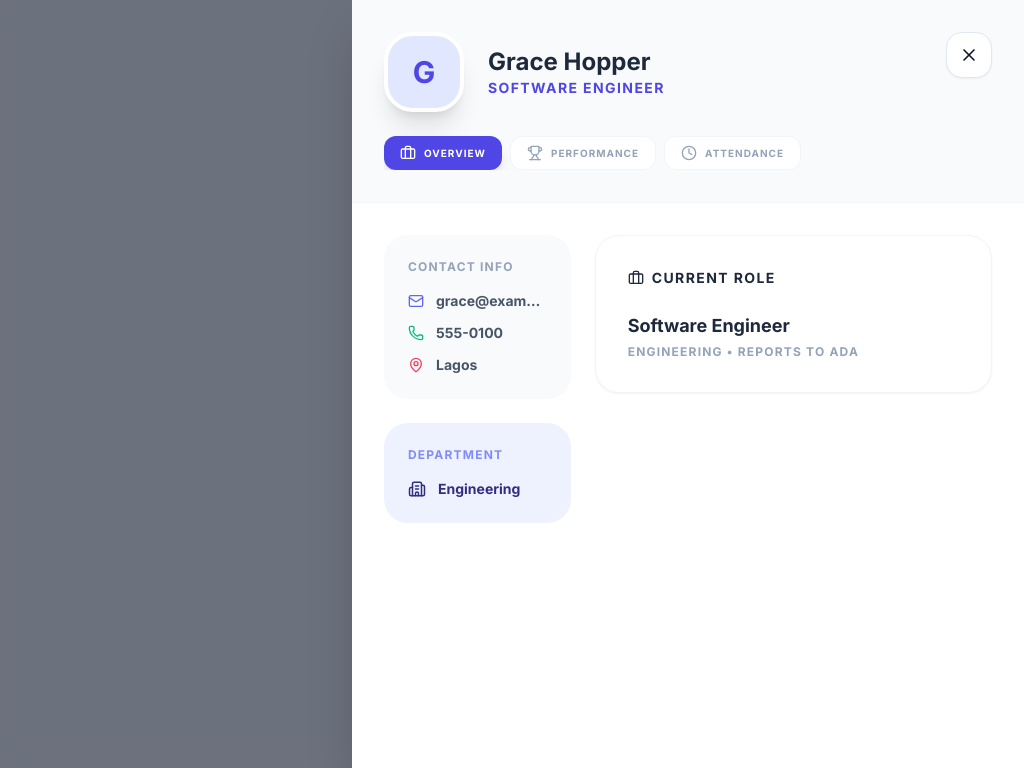
Test: EmployeeDetailModal › shows "No record yet" on the Attendance tab when there is no data for today
This screenshot has width=1024, height=768.
Click the button "Attendance" at x=733, y=153, box x1=664 y1=136 x2=801 y2=170
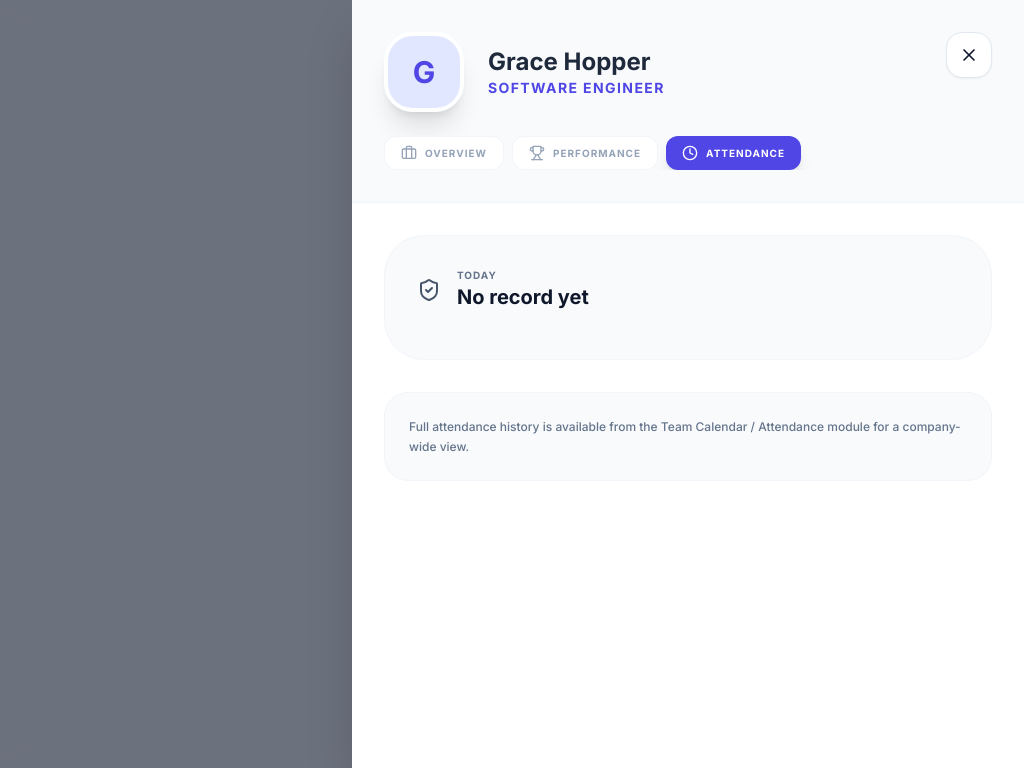
Expected: the heading "No record yet" is shown, x1=457 y1=283 x2=589 y2=311
